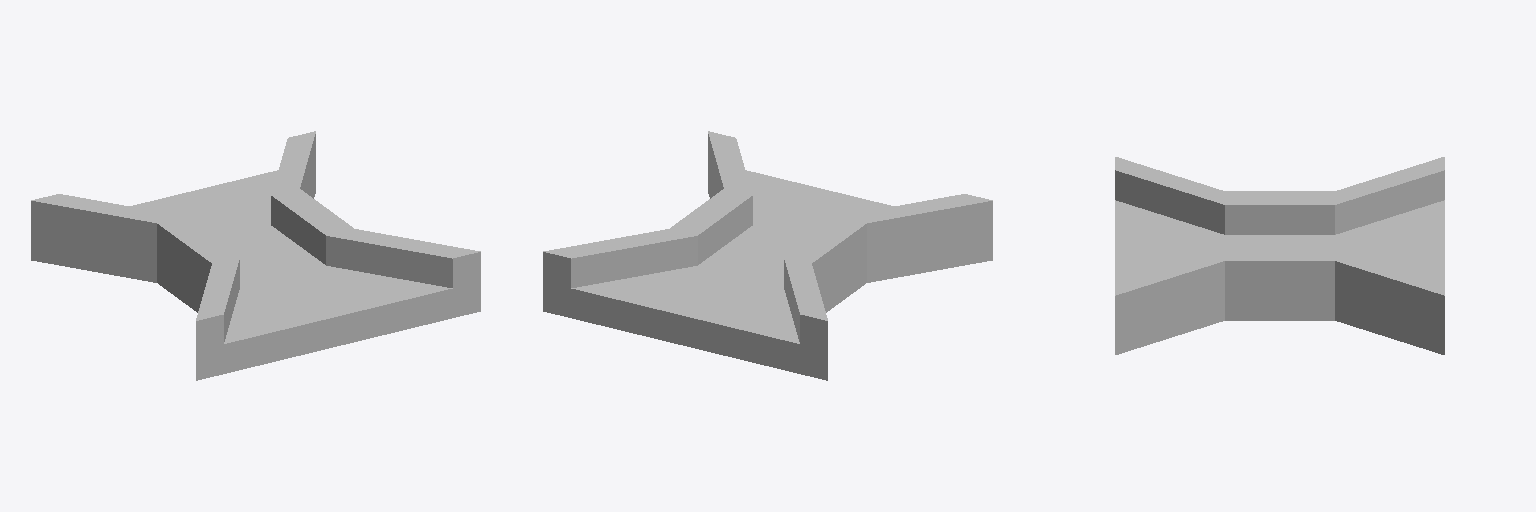
Rendered from ThickThinThick.obj.
The picture shows the model from 3 angles: view 1: azimuth 30°, elevation 25°; view 2: azimuth 150°, elevation 25°; view 3: azimuth 270°, elevation 25°; orthographic projection.
Parts seen in each view (by area): view 1: ThickThinThick_-_col; view 2: ThickThinThick_-_col; view 3: ThickThinThick_-_col.
Part boxes in pixels (x1,y1,x2,y2): ThickThinThick_-_col: (31,131,480,380); ThickThinThick_-_col: (543,131,992,380); ThickThinThick_-_col: (1115,157,1444,354).
Size of the model in its own units: 2 by 0.4 by 2.